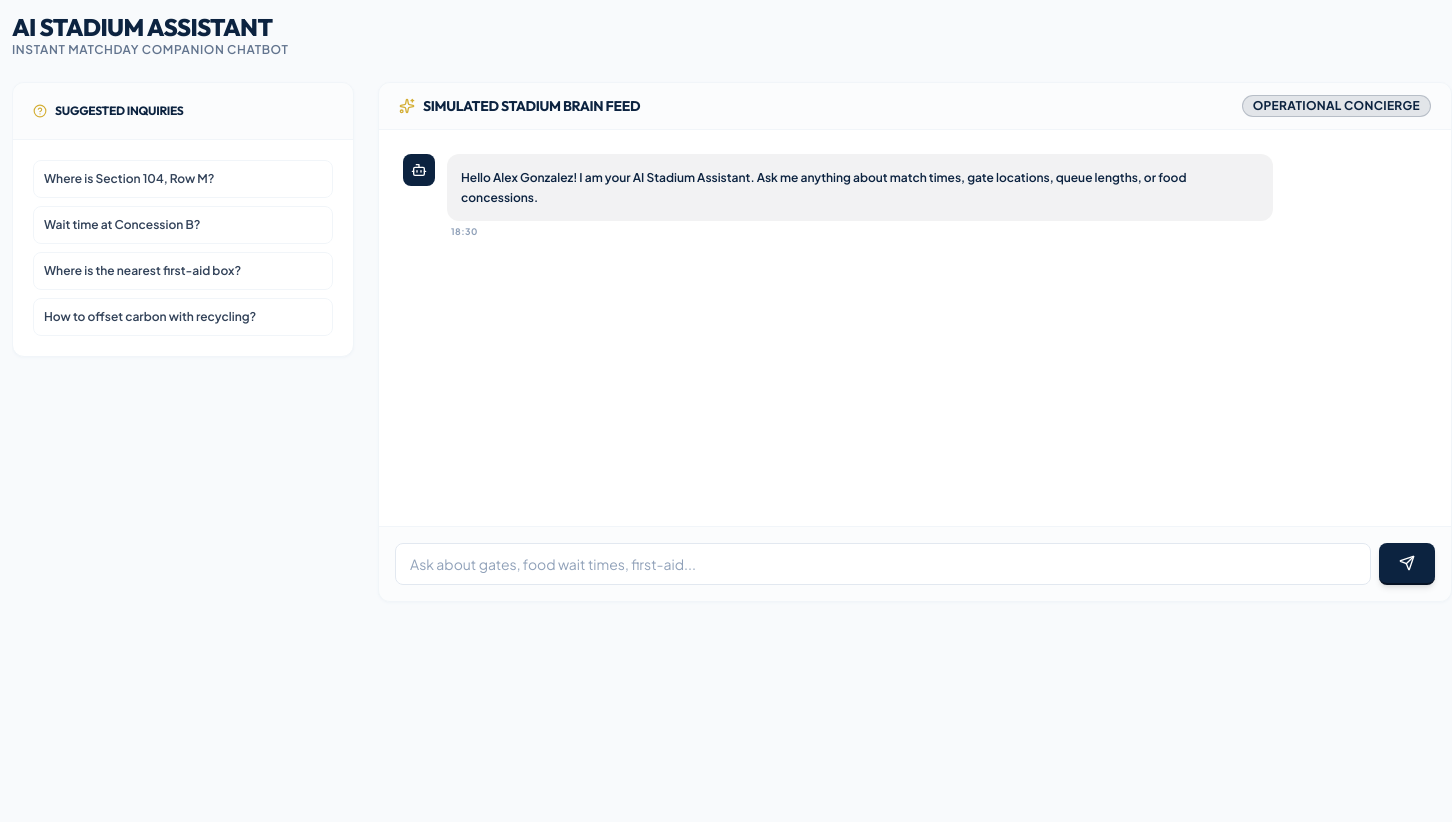
Test: AIAssistant Component › allows user to type a query and receive a successful AI response
Type query
Type "How can I recycle?" into the field with placeholder "Ask about gates, food wait times, first-aid..." at {"x": 883, "y": 564}, box top-left (395, 543), bottom-right (1371, 585)
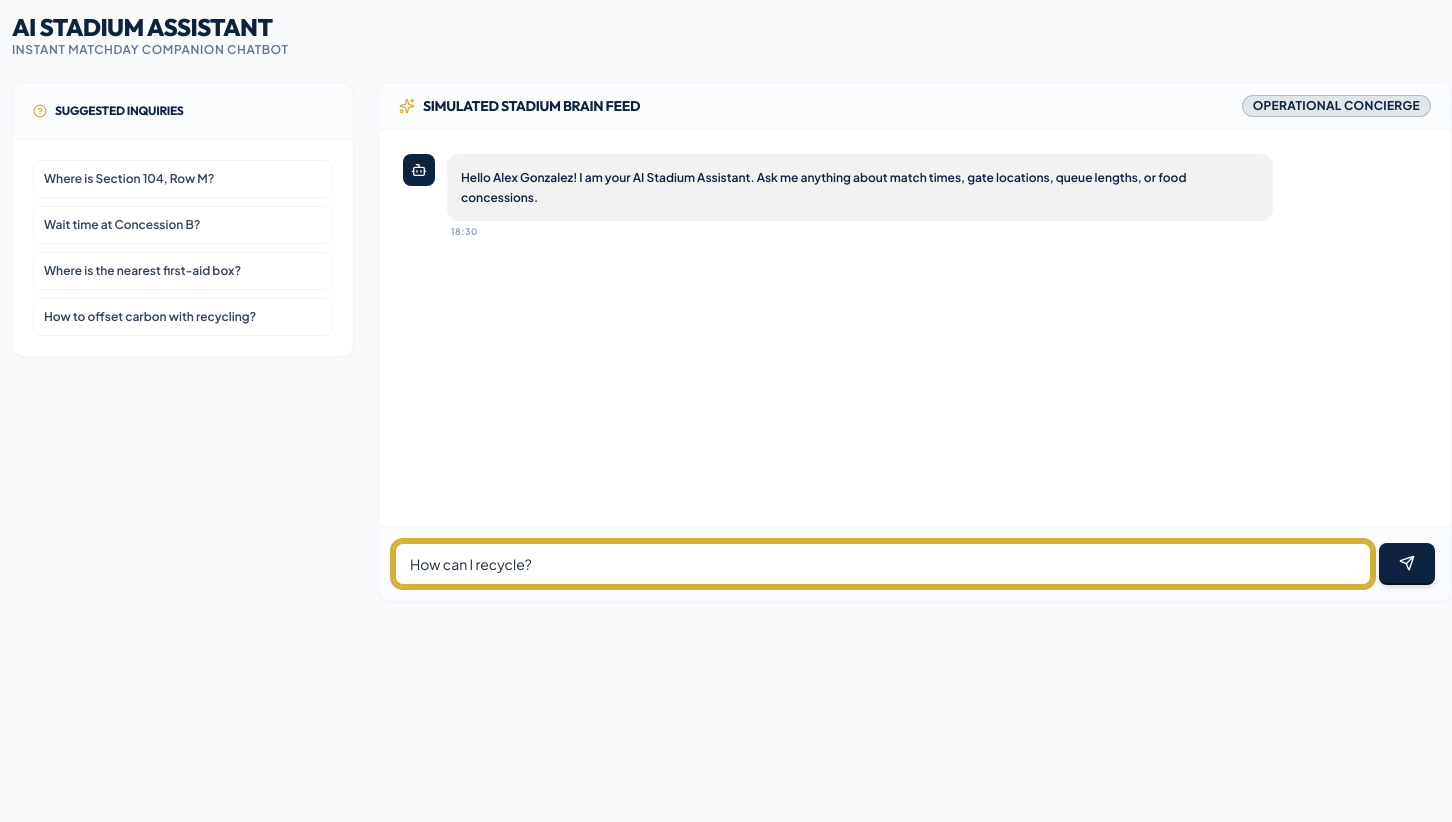
Click Send
Click the button named "Send" at {"x": 1407, "y": 564}, box top-left (1379, 543), bottom-right (1435, 585)
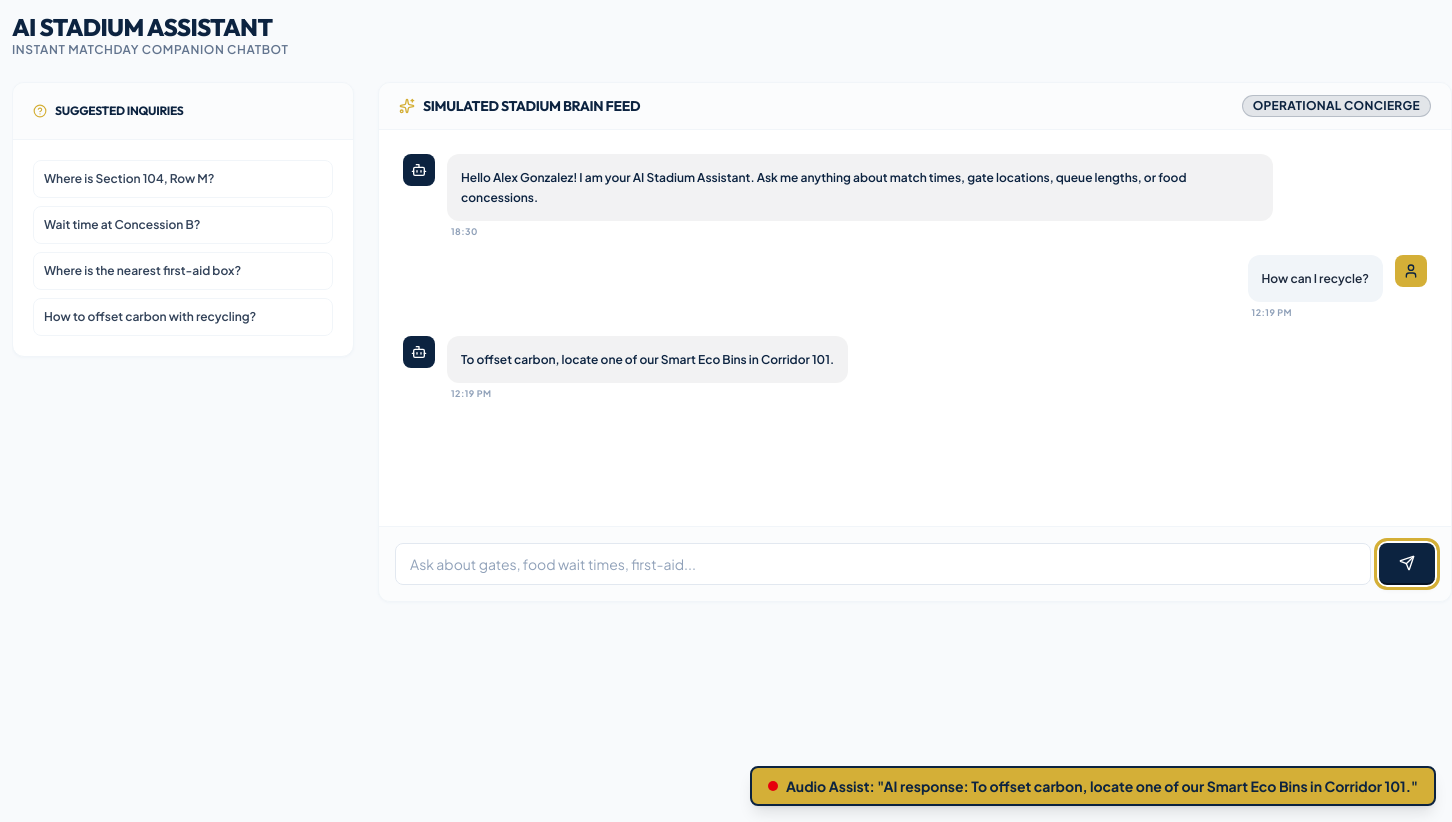
Result: the field with placeholder "Ask about gates, food wait times, first-aid..." is empty at top-left (395, 543), bottom-right (1371, 585)
Result: the text "How can I recycle?" is shown at top-left (1262, 268), bottom-right (1369, 288)
Result: the text "To offset carbon, locate one of our Smart Eco Bins in Corridor 101." is shown at top-left (461, 350), bottom-right (834, 369)
